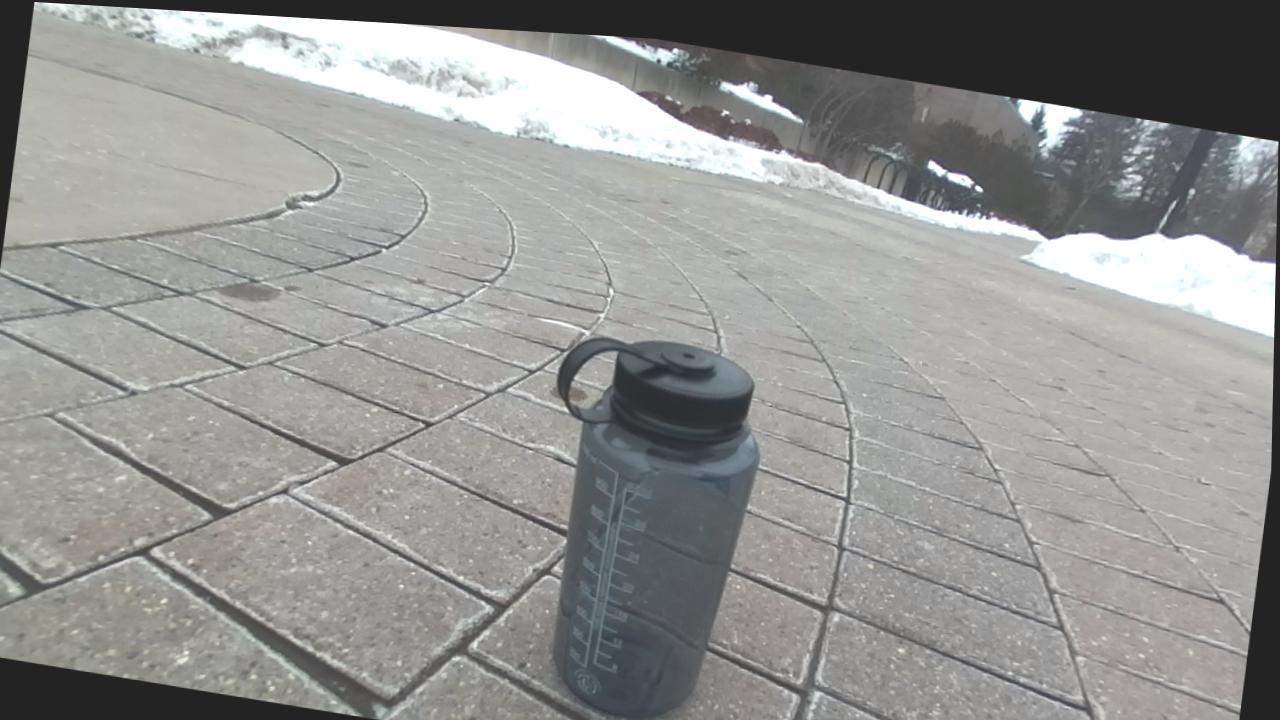bottle: (553, 337, 759, 717)
